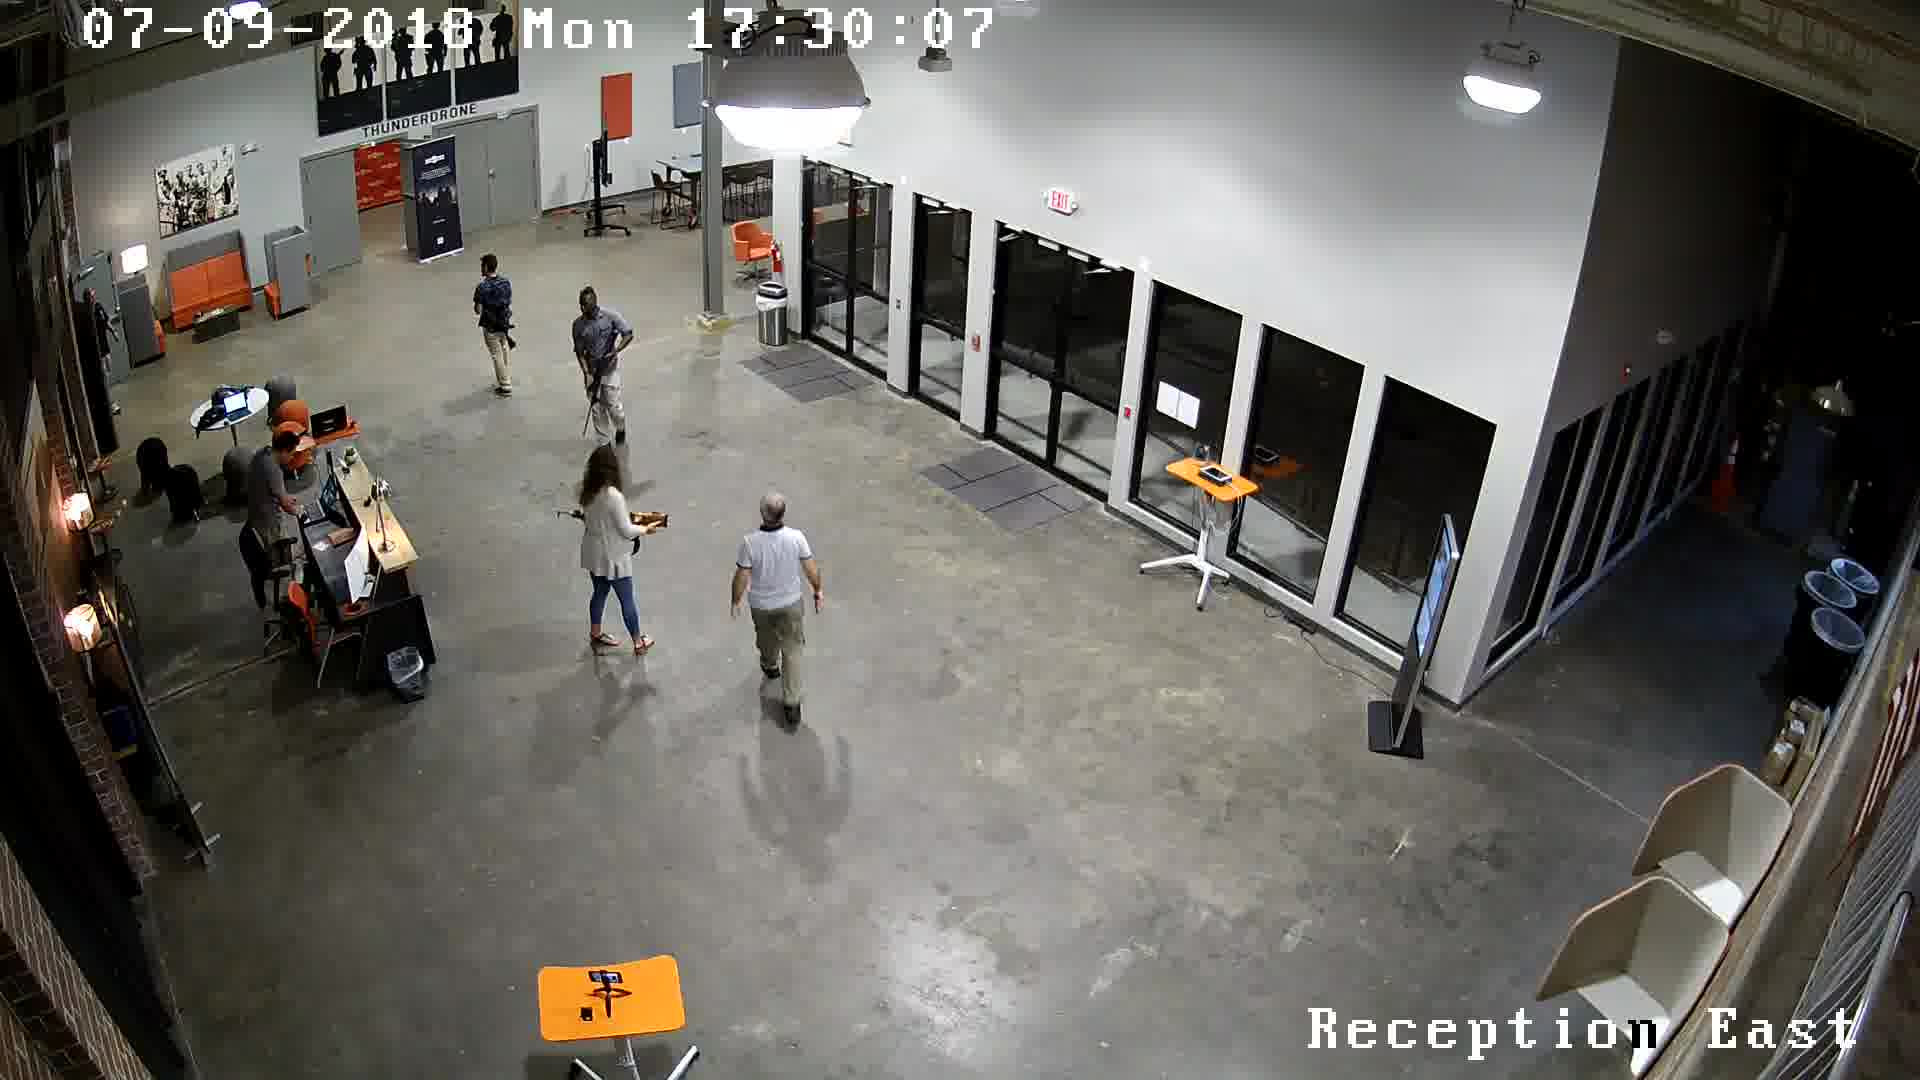pistol: (803, 578, 831, 625)
